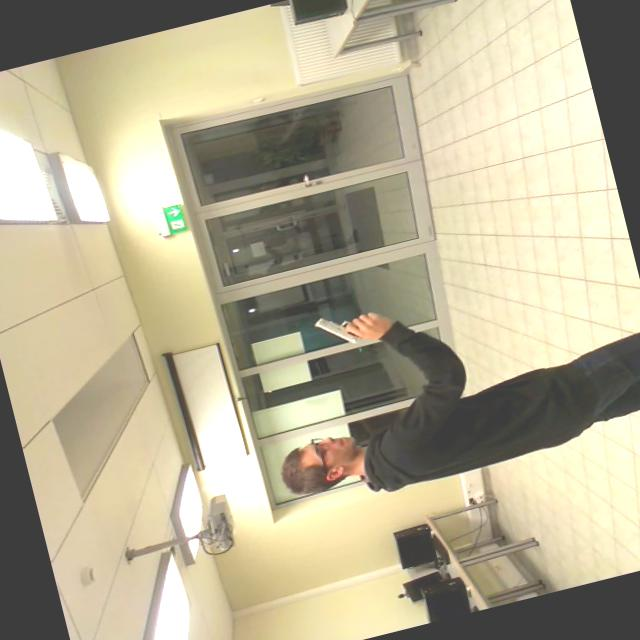handgun: (306, 288, 410, 360)
